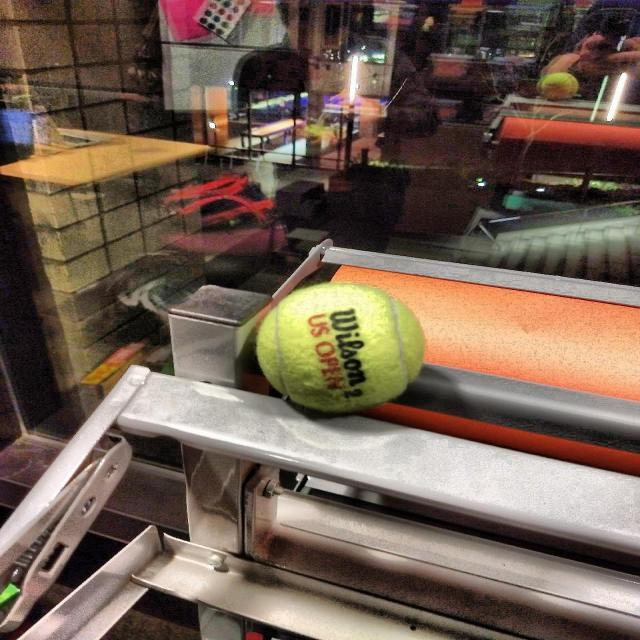tennis-ball: (252, 279, 442, 423)
